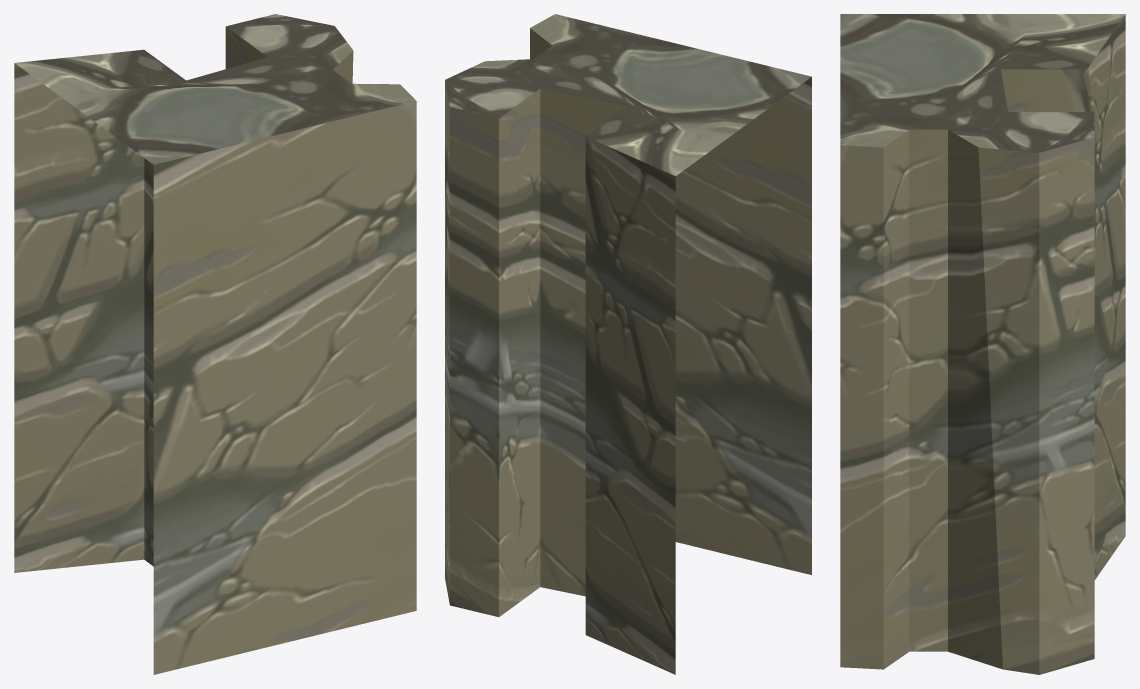
Rendered from broken_outside_corner.fbx.
3 views of the same model, side by side, from view 1: azimuth 30°, elevation 25°; view 2: azimuth 150°, elevation 25°; view 3: azimuth 270°, elevation 25° (orthographic). The views are drawn at different scales.
Parts seen in each view (by area): view 1: brokenOUTSIDEcorner; view 2: brokenOUTSIDEcorner; view 3: brokenOUTSIDEcorner.
Part boxes in pixels (x1=…): brokenOUTSIDEcorner: x1=14, y1=14, x2=416, y2=674; brokenOUTSIDEcorner: x1=445, y1=14, x2=811, y2=674; brokenOUTSIDEcorner: x1=840, y1=14, x2=1125, y2=674.
Bounding box in the file's own units: 0.5708 × 1 × 0.4954.
